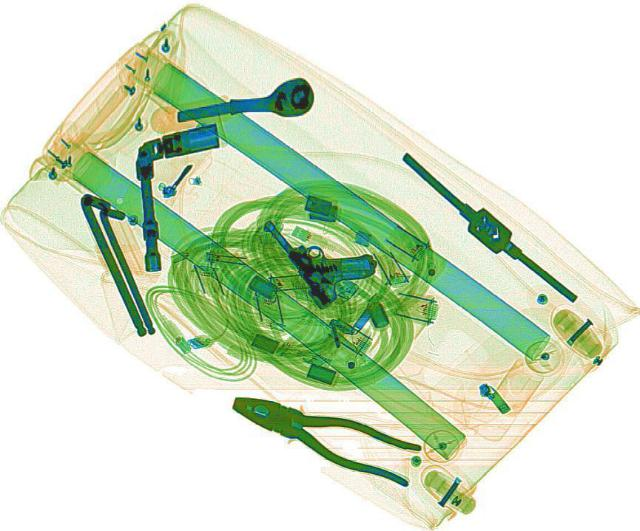Gun: (260, 194, 388, 307)
Pliers: (217, 381, 431, 488)
